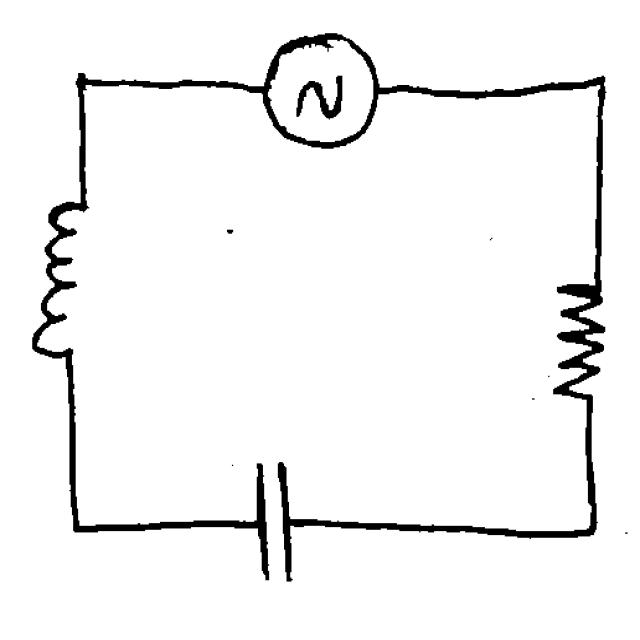ac: (251, 24, 391, 160)
capacitor: (236, 449, 318, 601)
inductor: (20, 184, 106, 378)
resistor: (540, 261, 615, 428)
